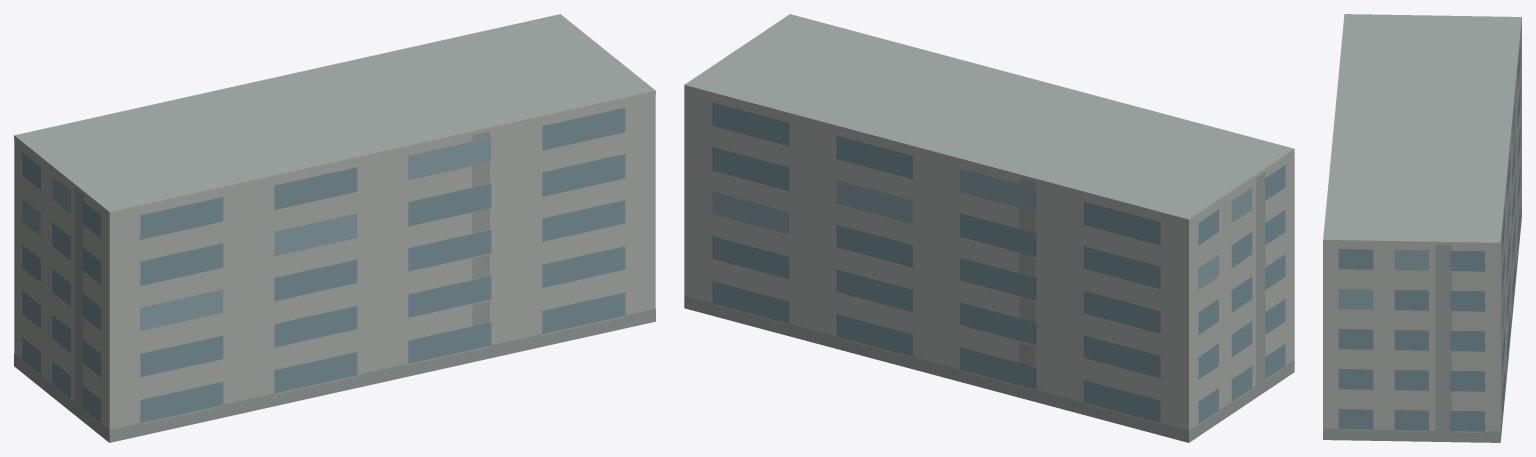
The model's file is residential-f2de996d-fca0-4337-8d3c-9090a2dd8fcc.glb.
The picture shows the model from 3 angles, left to right: view 1: azimuth 30°, elevation 25°; view 2: azimuth 150°, elevation 25°; view 3: azimuth 270°, elevation 25°; orthographic projection. The views are drawn at different scales.
Parts seen in each view (by area): view 1: residential-f2de996d-fca0-4337-8d3c-9090a2dd8fcc.tmp; view 2: residential-f2de996d-fca0-4337-8d3c-9090a2dd8fcc.tmp; view 3: residential-f2de996d-fca0-4337-8d3c-9090a2dd8fcc.tmp.
Boxes of the visible parts, x1,y1,x2,y2 form: residential-f2de996d-fca0-4337-8d3c-9090a2dd8fcc.tmp: [14, 14, 655, 442]; residential-f2de996d-fca0-4337-8d3c-9090a2dd8fcc.tmp: [684, 14, 1294, 442]; residential-f2de996d-fca0-4337-8d3c-9090a2dd8fcc.tmp: [1323, 14, 1521, 442].
Bounding box in the file's own units: 37.4 × 15.25 × 13.74.
